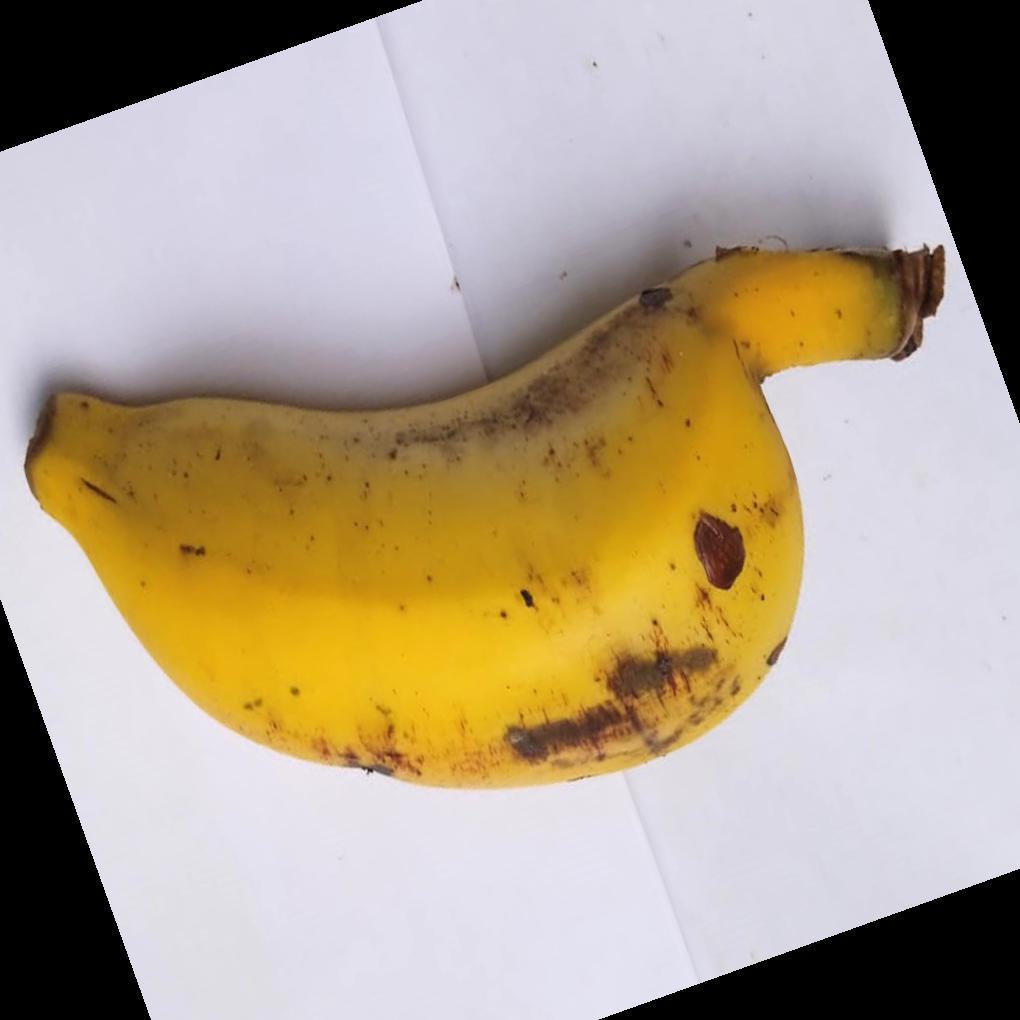Banana Ripe: (35, 224, 934, 843)
